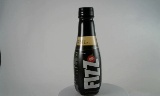appyfizz: (67, 6, 95, 95)
